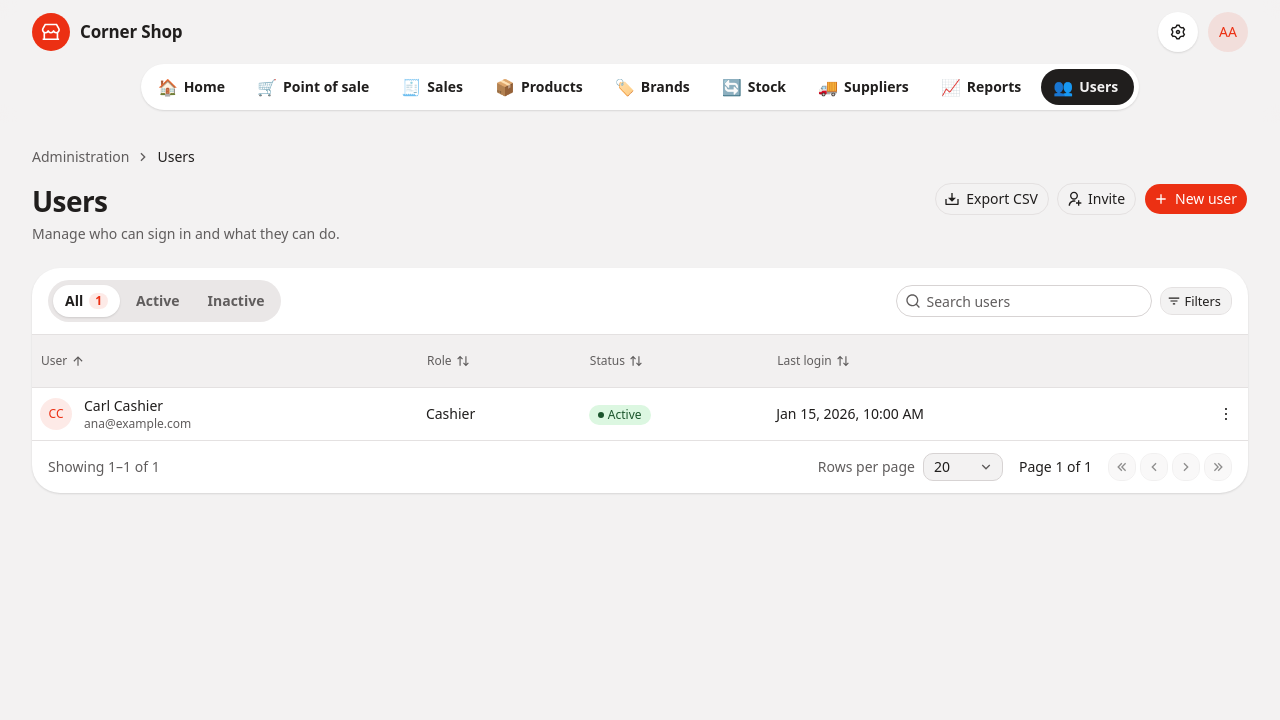
UserListPage › deactivates another user after confirmation
Expected: the link "Carl Cashier" is shown, left=84, top=396, right=163, bottom=415
Click the button named "Actions" at (1226, 414), box left=1212, top=400, right=1240, bottom=428
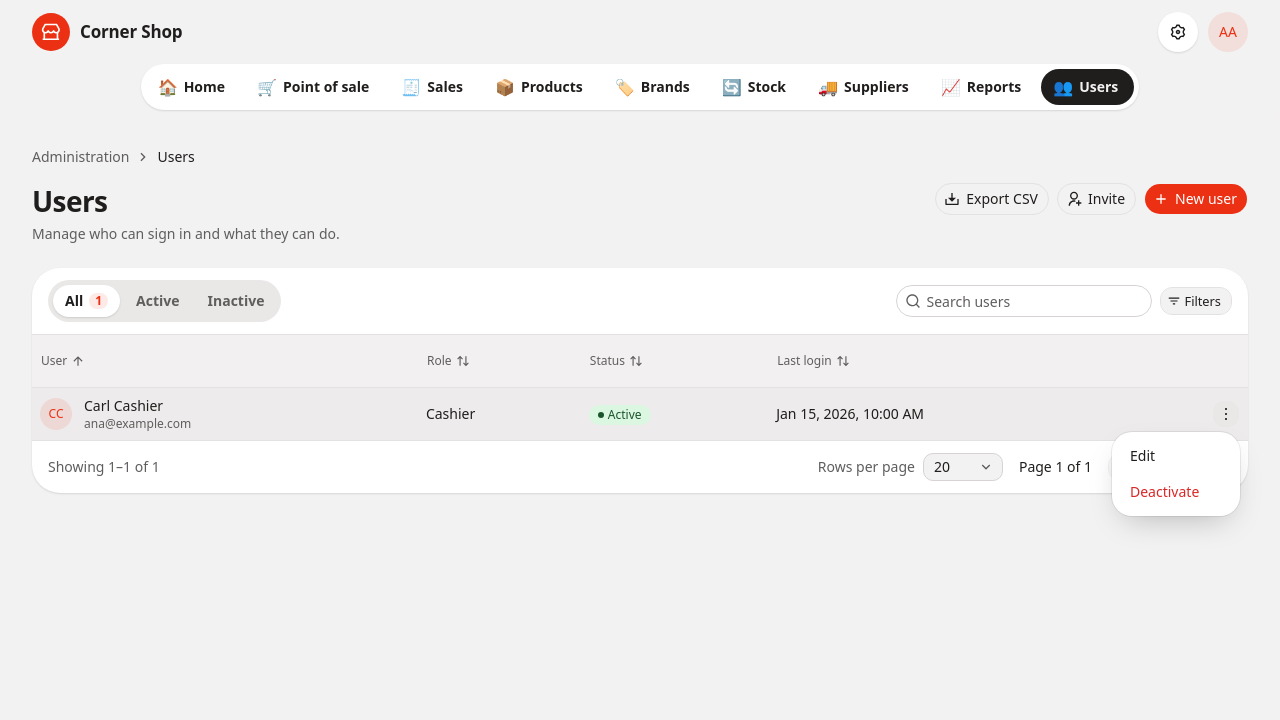
Click the menu item "Deactivate" at (1165, 492), box left=1130, top=482, right=1199, bottom=501
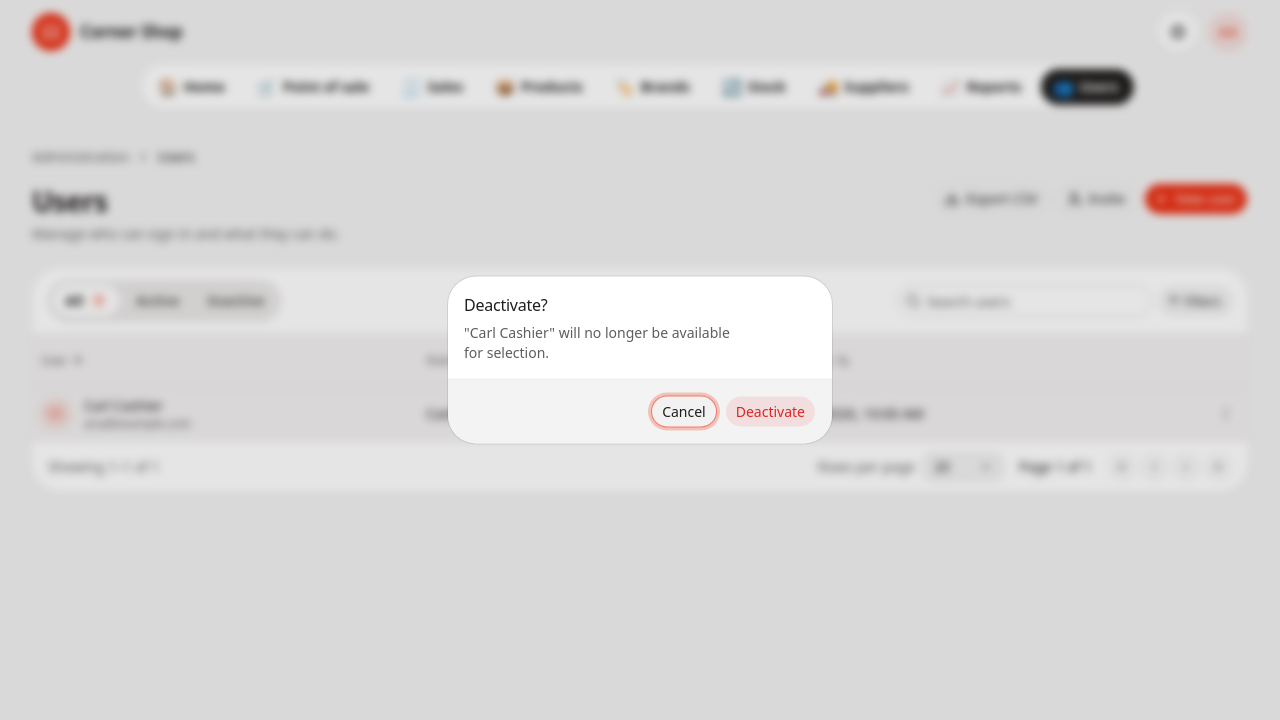
Click the button "Deactivate" at (770, 412), box left=725, top=396, right=816, bottom=428
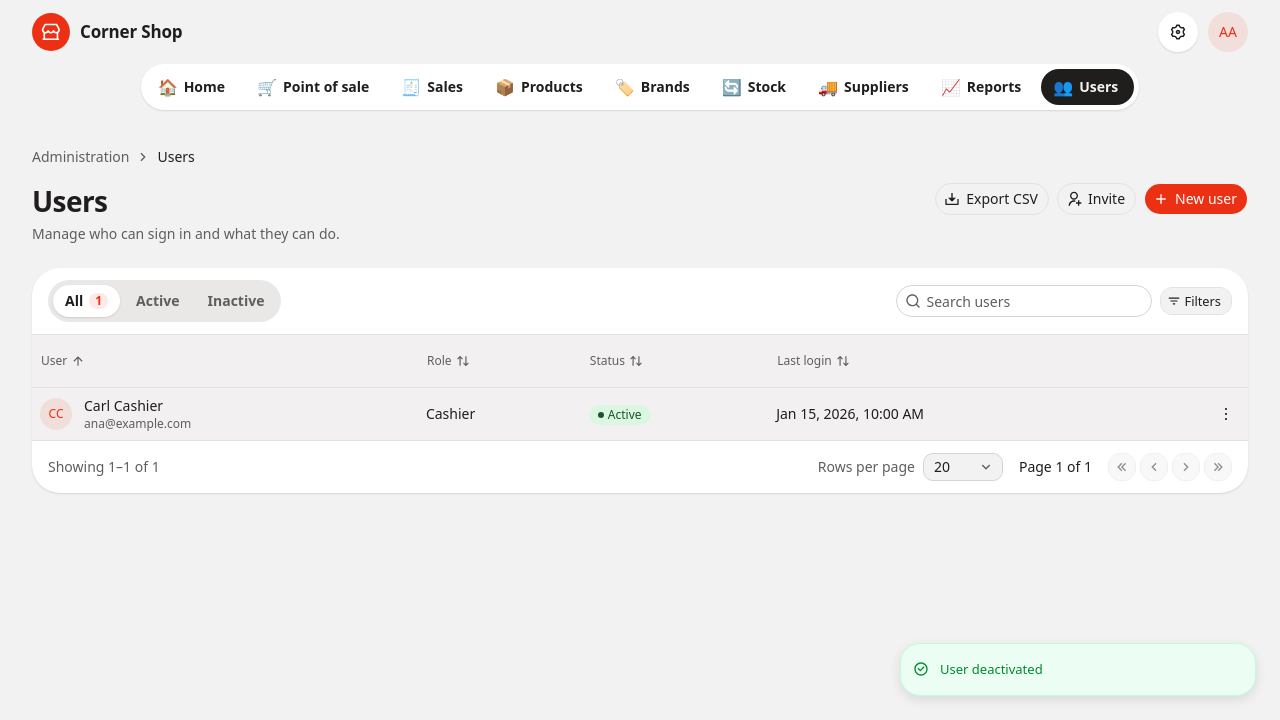
Expected: the text "User deactivated" is shown, left=940, top=660, right=1043, bottom=679
Expected: the dialog is gone
